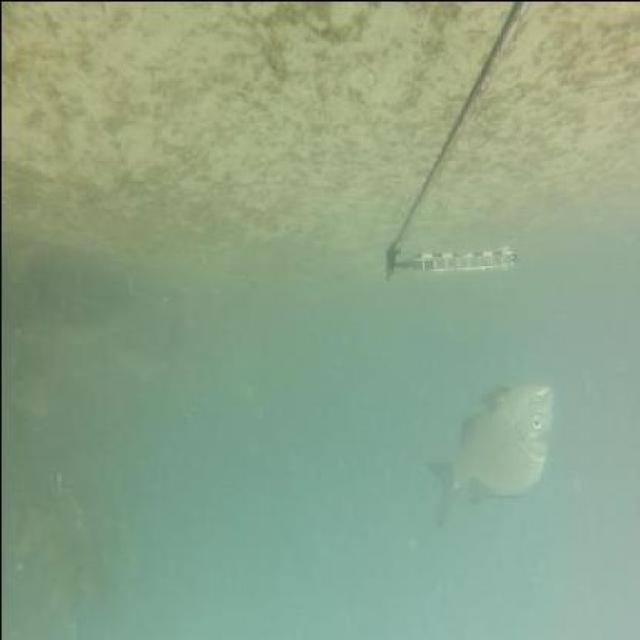acanthopagrus_palmaris: (420, 373, 554, 530)
